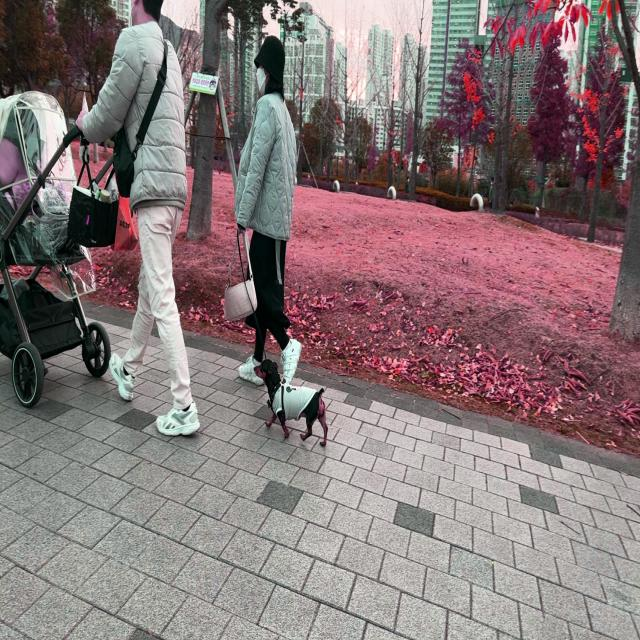Leashed_Dog: (237, 217, 328, 447)
